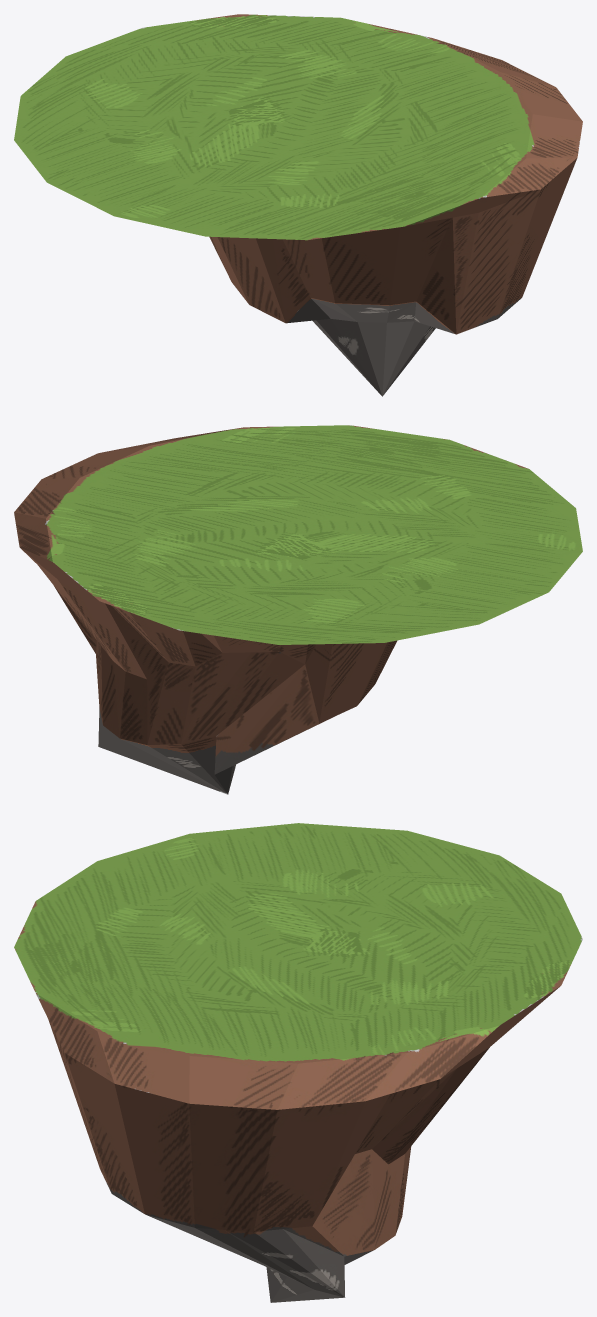
File: island_textures2c.obj
3 renders of one model, top to bottom at view 1: azimuth 30°, elevation 25°; view 2: azimuth 150°, elevation 25°; view 3: azimuth 270°, elevation 25°, orthographic. The views are drawn at different scales.
Visible parts, largest first — view 1: FloatingIslandBasic; view 2: FloatingIslandBasic; view 3: FloatingIslandBasic.
Part boxes in pixels (x1=…): FloatingIslandBasic: x1=14, y1=14, x2=582, y2=396; FloatingIslandBasic: x1=14, y1=425, x2=582, y2=794; FloatingIslandBasic: x1=14, y1=823, x2=582, y2=1302.
Bounding box in the file's own units: 2.55 × 1.4 × 2.31.
Materials: 1 (1 with a texture image).
